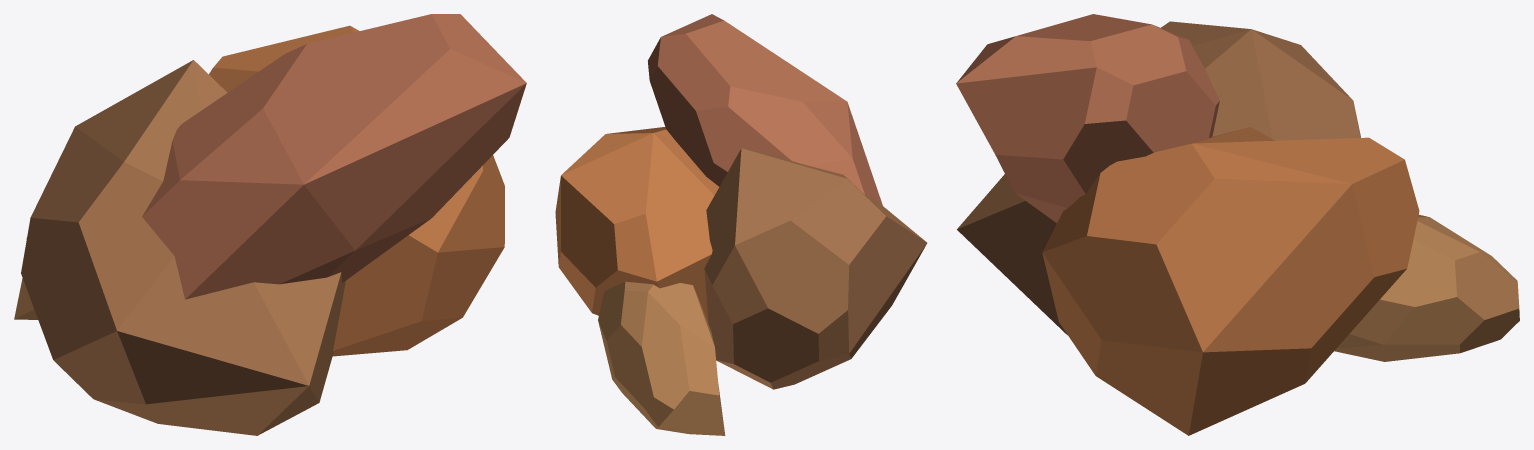
File: Rock_Brown (2).fbx
3 views of the same model, side by side, from view 1: azimuth 30°, elevation 25°; view 2: azimuth 150°, elevation 25°; view 3: azimuth 270°, elevation 25° (orthographic). The views are drawn at different scales.
Parts seen in each view (by area): view 1: Rock3_003, Rock2_002, Rock1_002, Rock3_002; view 2: Rock2_002, Rock3_003, Rock1_002, Rock3_002; view 3: Rock1_002, Rock3_003, Rock2_002, Rock3_002.
Boxes of the visible parts, x1,y1,x2,y2 form: Rock3_003: [142, 14, 526, 299]; Rock2_002: [21, 60, 345, 435]; Rock1_002: [209, 25, 504, 356]; Rock3_002: [14, 238, 37, 319]; Rock2_002: [704, 148, 927, 389]; Rock3_003: [648, 14, 882, 205]; Rock1_002: [555, 127, 719, 323]; Rock3_002: [598, 281, 725, 435]; Rock1_002: [1042, 127, 1419, 435]; Rock3_003: [956, 14, 1219, 222]; Rock2_002: [957, 21, 1360, 335]; Rock3_002: [1334, 214, 1519, 361].
Size of the model in its own units: 140 by 117 by 147.
